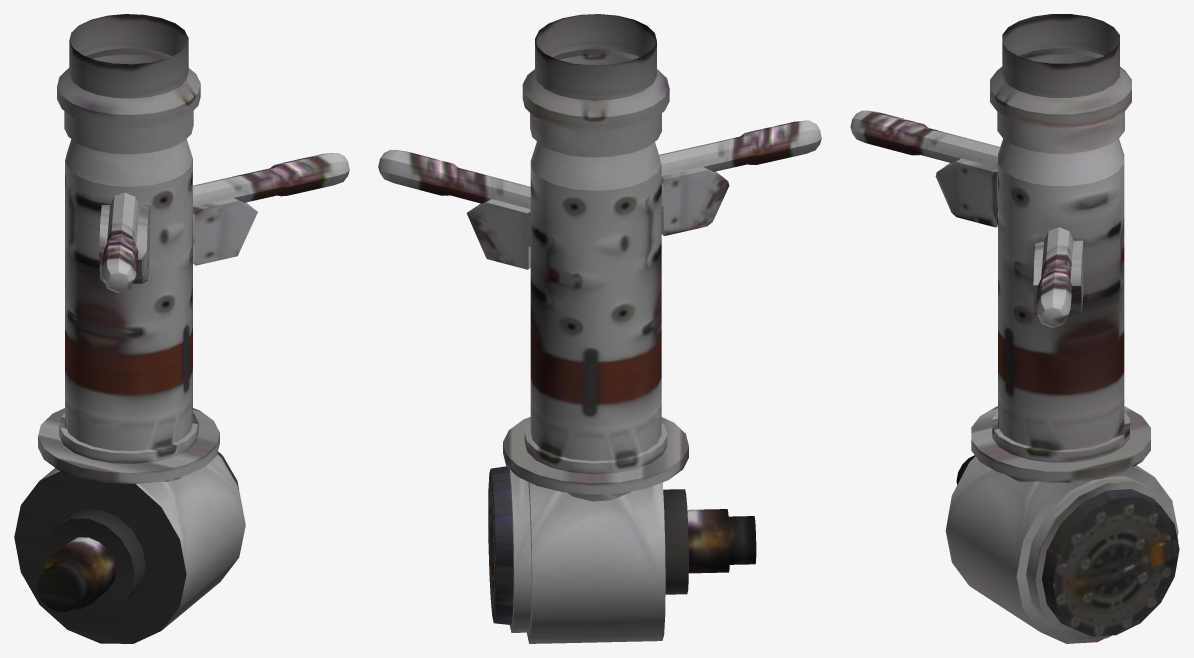
The model's file is mast_column_link.dae.
3 renders of one model, left to right at view 1: azimuth 30°, elevation 25°; view 2: azimuth 150°, elevation 25°; view 3: azimuth 270°, elevation 25°, orthographic. The views are drawn at different scales.
Parts seen in each view (by area): view 1: mast_column_link; view 2: mast_column_link; view 3: mast_column_link.
Boxes of the visible parts, bbox=[...] form: mast_column_link: bbox=[14, 14, 349, 643]; mast_column_link: bbox=[378, 14, 821, 643]; mast_column_link: bbox=[850, 14, 1179, 643].
Bounding box in the file's own units: 0.3211 × 0.2706 × 0.5256.
Materials: 1 (1 with a texture image).
